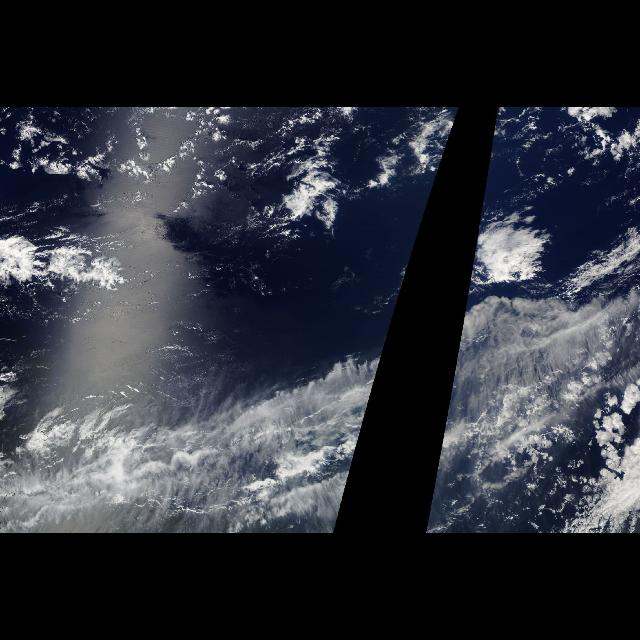Fish: (9, 281, 407, 534), (424, 281, 638, 534)
